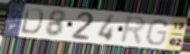2: (70, 11, 96, 42)
4: (95, 13, 116, 44)
8: (44, 8, 67, 38)
D: (19, 6, 45, 36)
G: (145, 19, 170, 47)
R: (118, 15, 148, 47)
